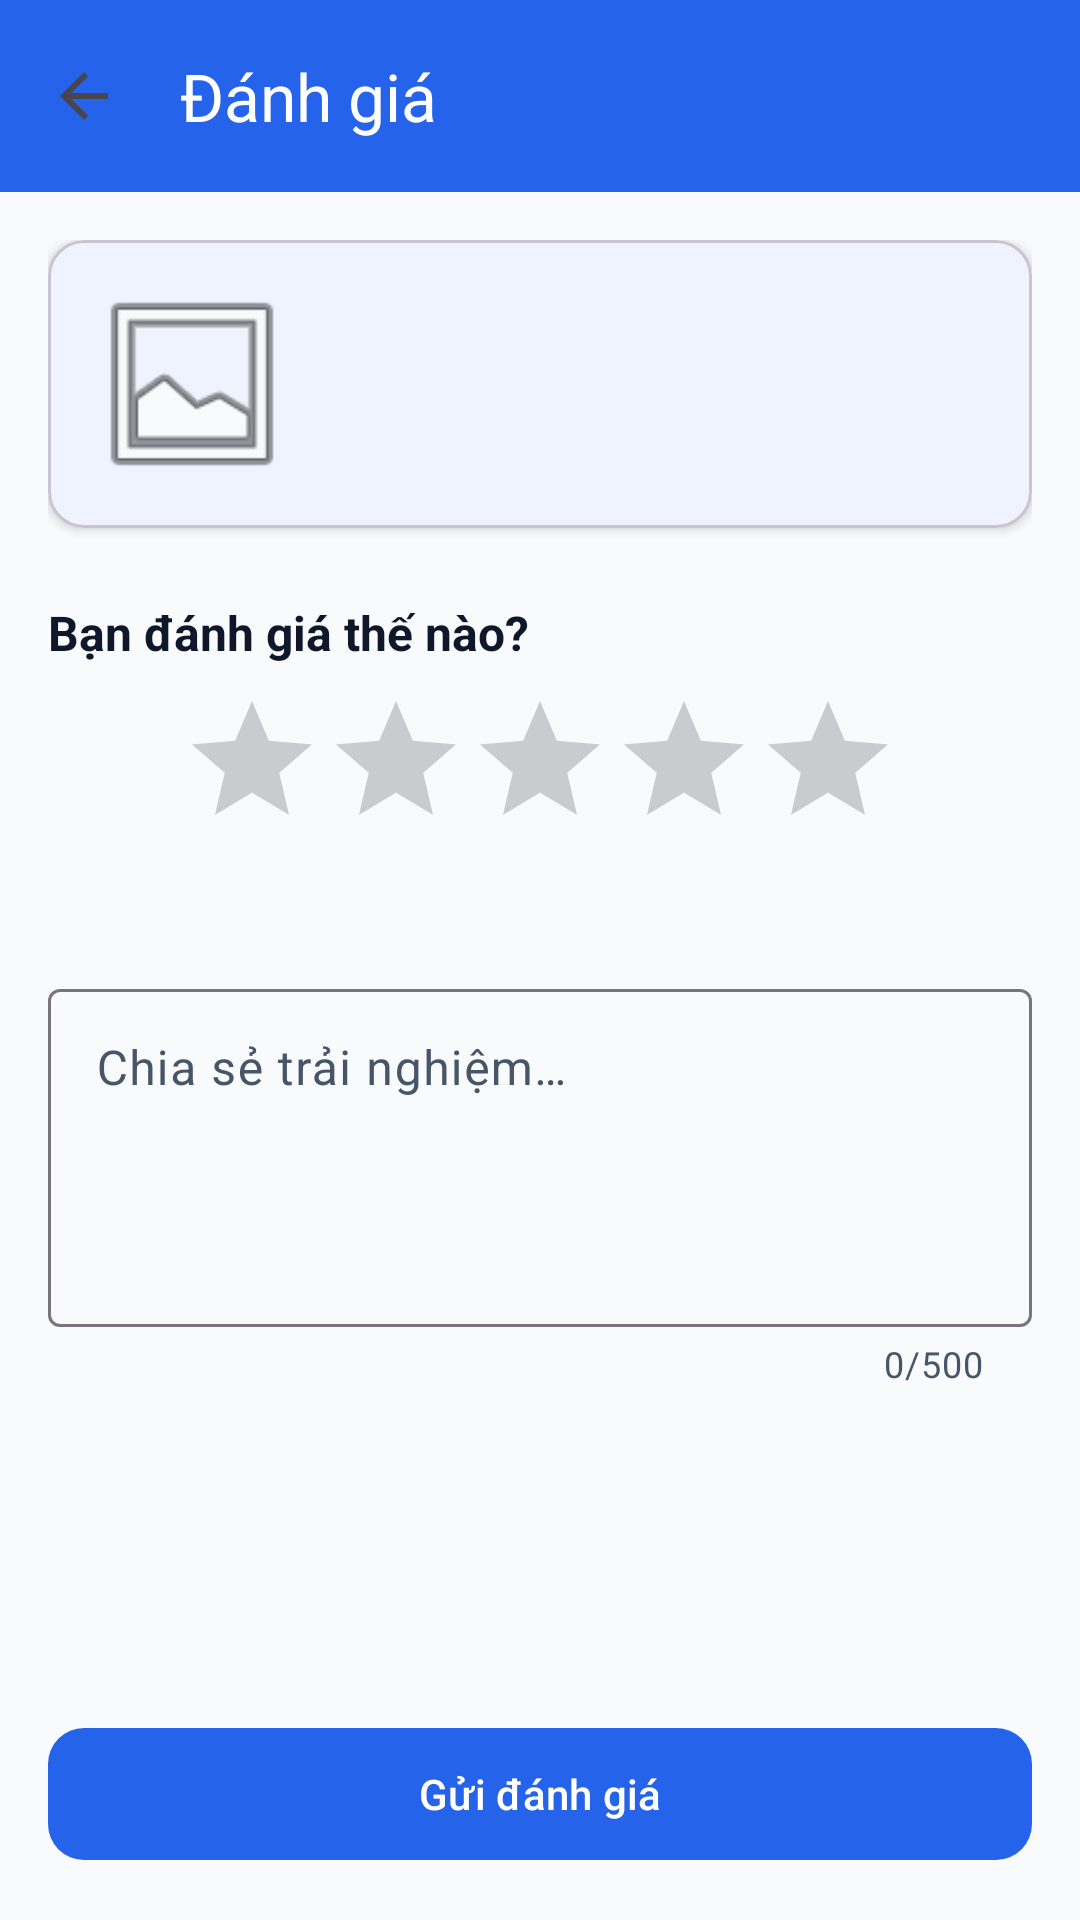

Named icons in this screenshot (1080px x 1920px) and their bounding boxes, (x1, y1, x2, y2):
gallery: (110, 302, 274, 466)
